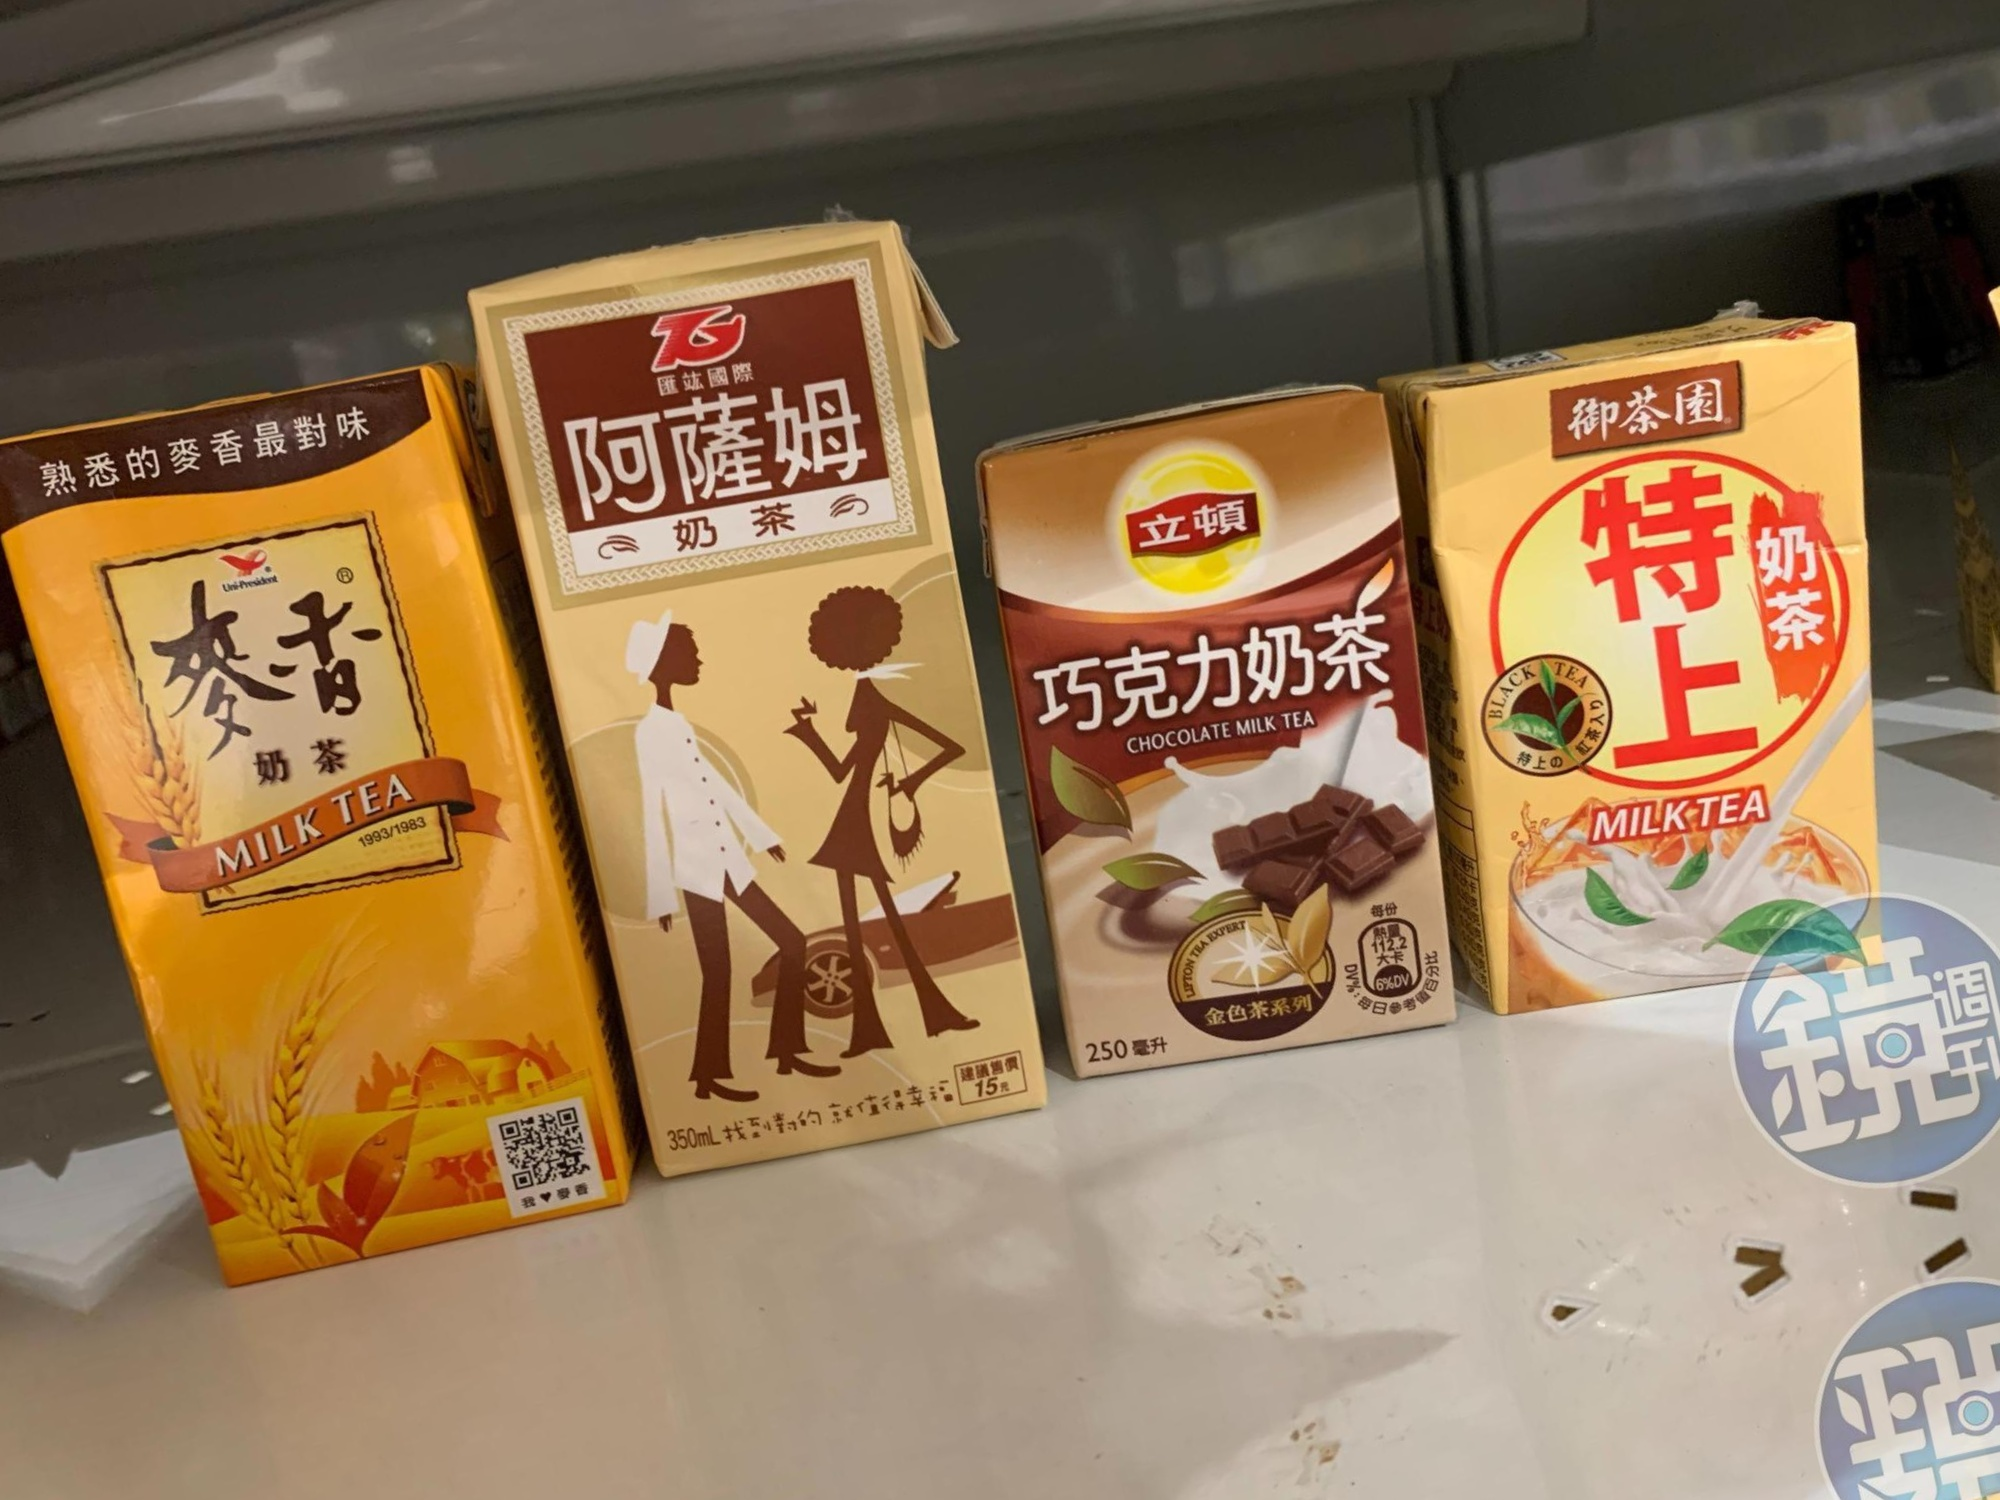鋁箔包: (422, 153, 1131, 1220), (0, 309, 663, 1327), (1324, 243, 2000, 1067), (923, 332, 1529, 1131), (0, 449, 35, 1465), (1964, 101, 2000, 925), (1595, 1453, 2000, 1500)
